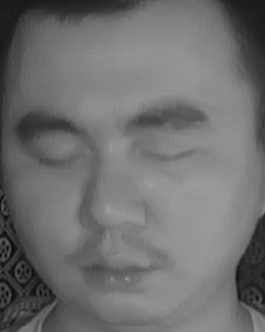blink: (143, 139, 201, 174), (35, 143, 89, 178)
mouth: (72, 240, 161, 299)
